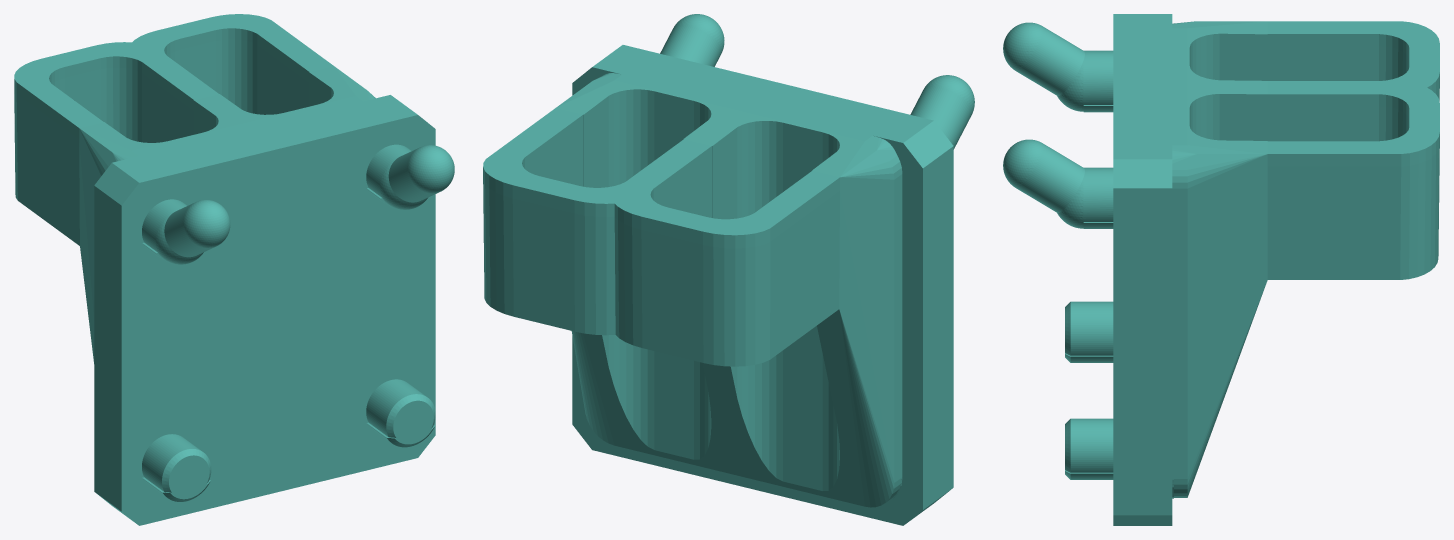
The picture shows the model from 3 angles, left to right: view 1: azimuth 30°, elevation 25°; view 2: azimuth 150°, elevation 25°; view 3: azimuth 270°, elevation 25°; orthographic projection. The views are drawn at different scales.
Parts seen in each view (by area): view 1: Actual holder mesh; view 2: Actual holder mesh; view 3: Actual holder mesh.
Part boxes in pixels (x1,y1,x2,y2): Actual holder mesh: (14, 14, 454, 525); Actual holder mesh: (483, 14, 974, 525); Actual holder mesh: (1003, 14, 1439, 525).
Bounding box in the file's own units: 0.0356 × 0.0374 × 0.0401.
